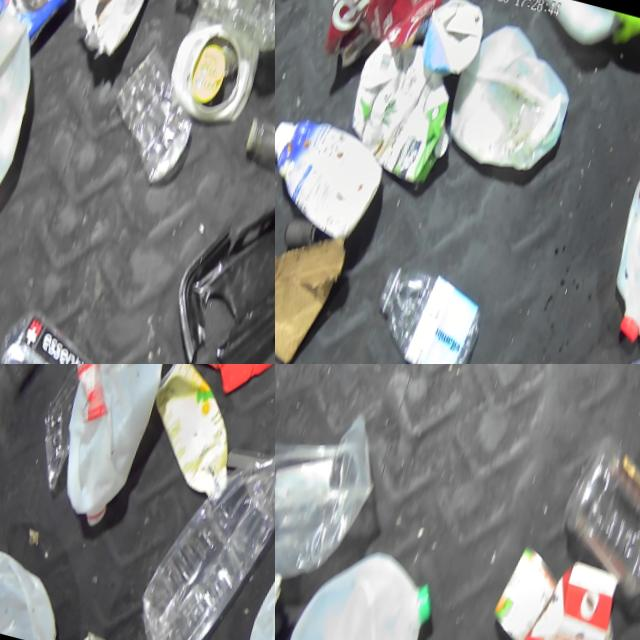milk_jug: (38, 364, 181, 539), (439, 13, 586, 183), (275, 531, 448, 640), (0, 0, 54, 249), (593, 121, 640, 357), (0, 537, 87, 640)
non_white_jug: (275, 107, 391, 246), (275, 435, 314, 640)
plastic_bottle: (134, 403, 275, 640), (546, 424, 640, 597), (361, 254, 498, 364), (0, 290, 151, 364)
